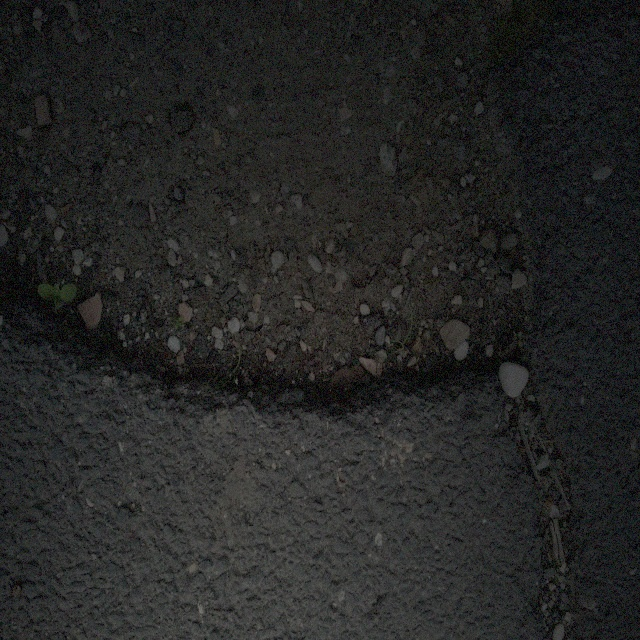pothole: (25, 42, 540, 440)
